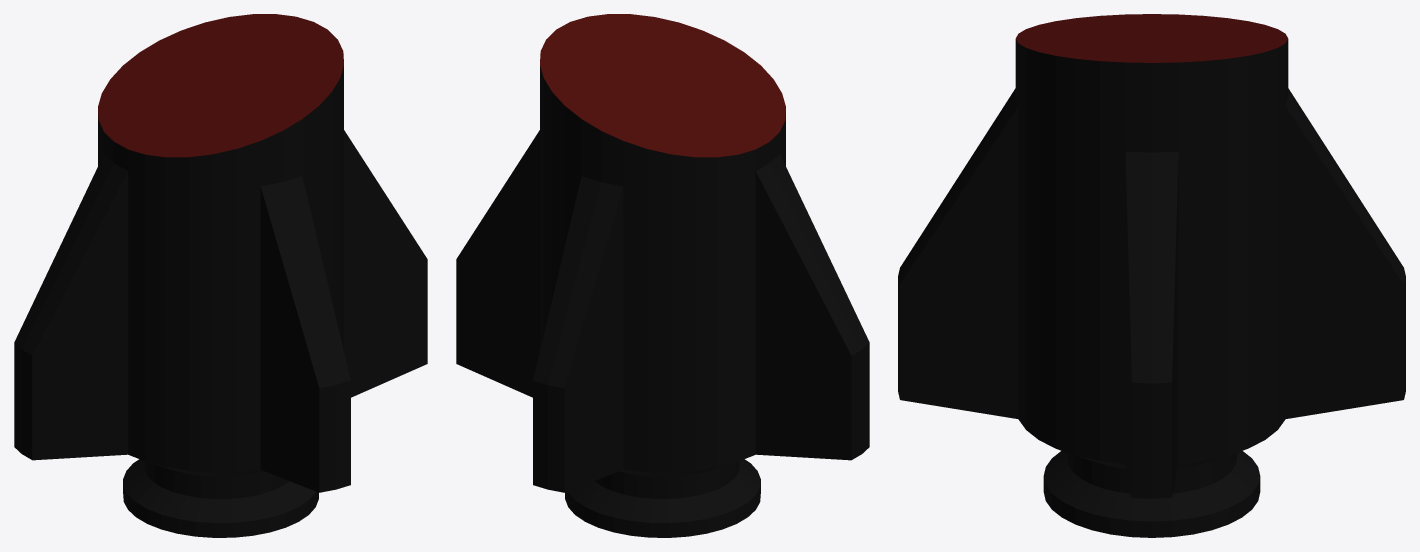
Rendered from missile_wreck_1.fbx.
The picture shows the model from 3 angles, left to right: view 1: azimuth 30°, elevation 25°; view 2: azimuth 150°, elevation 25°; view 3: azimuth 270°, elevation 25°; orthographic projection. The views are drawn at different scales.
Visible parts, largest first — view 1: wreck1; view 2: wreck1; view 3: wreck1.
Part boxes in pixels (box(x1,y1,x2,y2)): wreck1: box(14, 14, 427, 537); wreck1: box(456, 14, 869, 537); wreck1: box(898, 14, 1405, 537).
Size of the model in its own units: 112 by 118 by 112.
